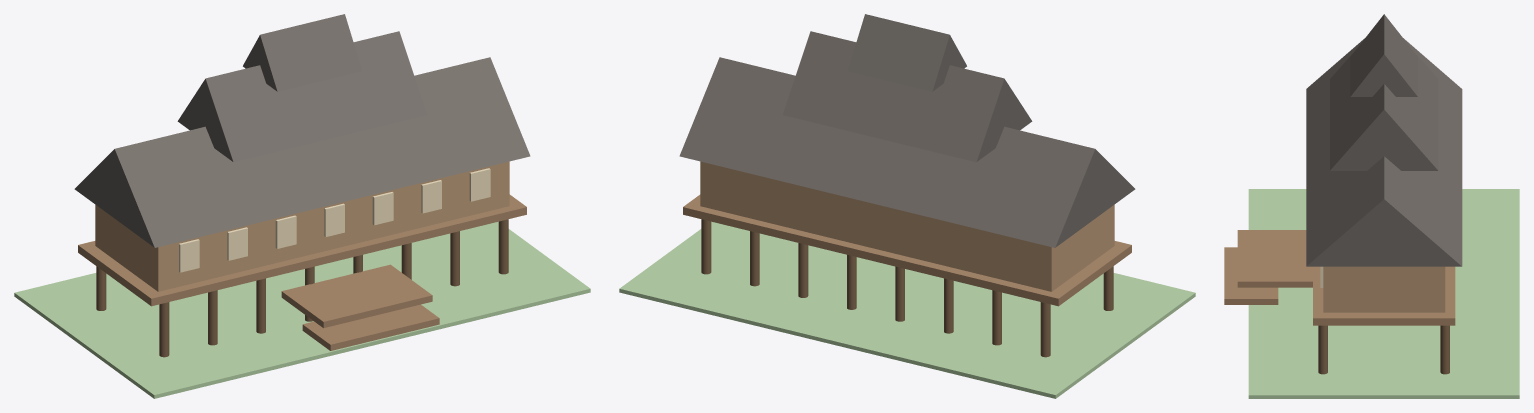
File: palace.glb
The picture shows the model from 3 angles, left to right: view 1: azimuth 30°, elevation 25°; view 2: azimuth 150°, elevation 25°; view 3: azimuth 270°, elevation 25°; orthographic projection. The views are drawn at different scales.
Parts seen in each view (by area): view 1: geometry_26, geometry_0, geometry_27, geometry_18, geometry_17, geometry_28, geometry_29, geometry_30, geometry_25, geometry_21, geometry_23, geometry_19 (+8 smaller); view 2: geometry_0, geometry_26, geometry_18, geometry_27, geometry_17, geometry_28, geometry_1, geometry_15, geometry_11, geometry_7, geometry_3, geometry_5 (+2 smaller); view 3: geometry_0, geometry_26, geometry_27, geometry_18, geometry_29, geometry_28, geometry_17, geometry_30, geometry_15, geometry_16.
Boxes of the visible parts, left/top/right/bottom form: geometry_26: left=74, top=57, right=530, bottom=247; geometry_0: left=14, top=221, right=590, bottom=398; geometry_27: left=177, top=31, right=427, bottom=162; geometry_18: left=95, top=161, right=509, bottom=291; geometry_17: left=78, top=194, right=526, bottom=306; geometry_28: left=243, top=14, right=362, bottom=91; geometry_29: left=281, top=264, right=432, bottom=328; geometry_30: left=302, top=304, right=439, bottom=350; geometry_25: left=469, top=168, right=490, bottom=201; geometry_21: left=275, top=215, right=296, bottom=248; geometry_23: left=372, top=192, right=393, bottom=225; geometry_19: left=179, top=239, right=199, bottom=272; geometry_0: left=619, top=221, right=1195, bottom=398; geometry_26: left=679, top=57, right=1135, bottom=247; geometry_18: left=700, top=161, right=1114, bottom=291; geometry_27: left=782, top=31, right=1032, bottom=162; geometry_17: left=683, top=194, right=1131, bottom=306; geometry_28: left=847, top=14, right=966, bottom=91; geometry_1: left=1040, top=302, right=1050, bottom=357; geometry_15: left=701, top=219, right=711, bottom=274; geometry_11: left=798, top=243, right=808, bottom=297; geometry_7: left=895, top=266, right=904, bottom=321; geometry_3: left=992, top=290, right=1001, bottom=345; geometry_5: left=944, top=278, right=953, bottom=333; geometry_0: left=1248, top=189, right=1519, bottom=398; geometry_26: left=1306, top=38, right=1462, bottom=266; geometry_27: left=1330, top=51, right=1438, bottom=170; geometry_18: left=1323, top=266, right=1445, bottom=312; geometry_29: left=1237, top=230, right=1312, bottom=287; geometry_28: left=1350, top=14, right=1417, bottom=96; geometry_17: left=1313, top=266, right=1455, bottom=325; geometry_30: left=1224, top=247, right=1278, bottom=304; geometry_15: left=1440, top=325, right=1449, bottom=374; geometry_16: left=1318, top=325, right=1327, bottom=374.
Size of the model in its own units: 3.6 by 2.13 by 2.18.
